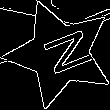N_W: (28, 26, 91, 82)
